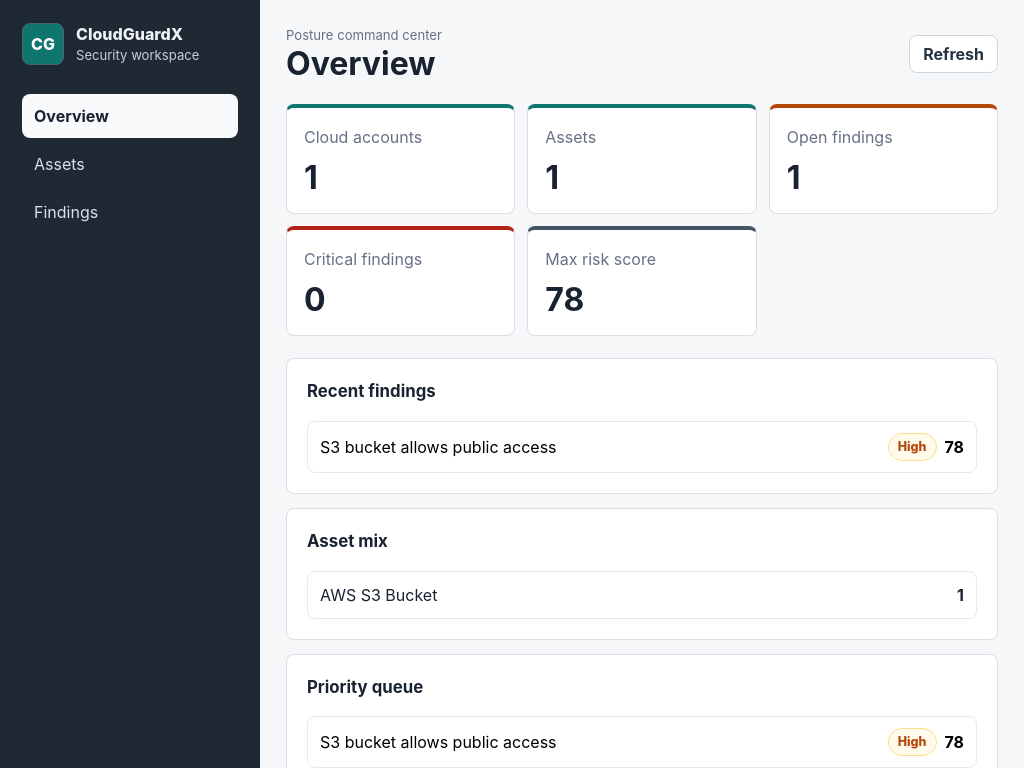
App › surfaces filtered findings API errors without showing stale results
Click the link "Findings" at point(66, 212), box [34,202,98,222]
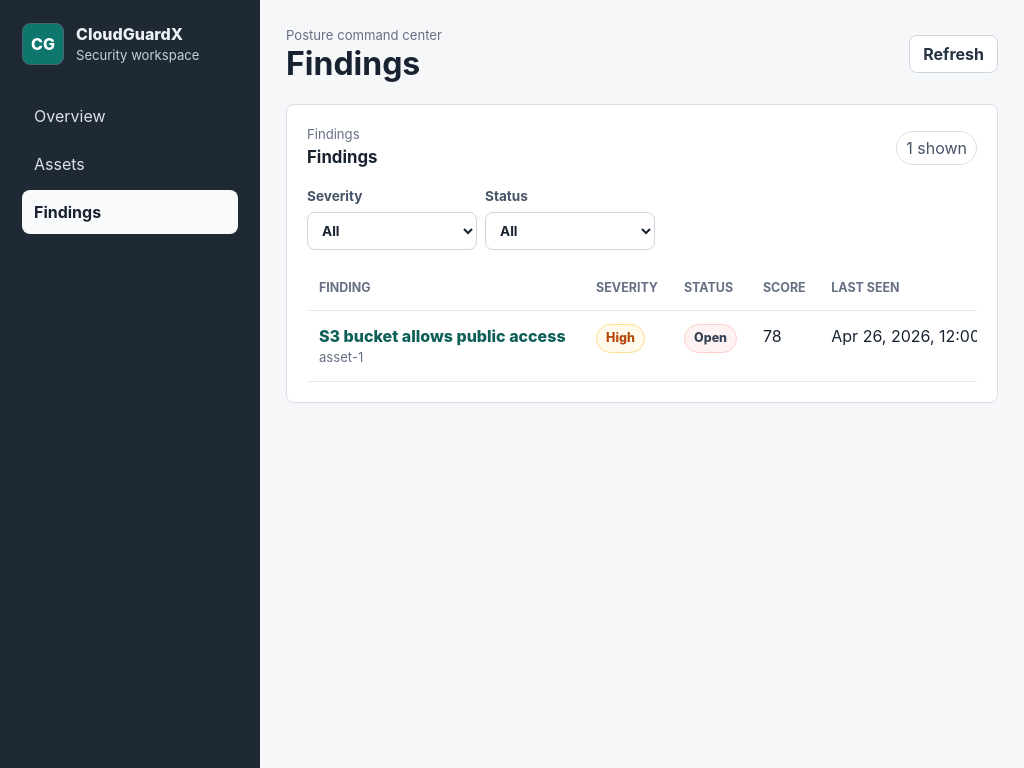
Select "Critical" in the dropdown labelled "Severity" at point(392, 231), box [307,212,477,250]
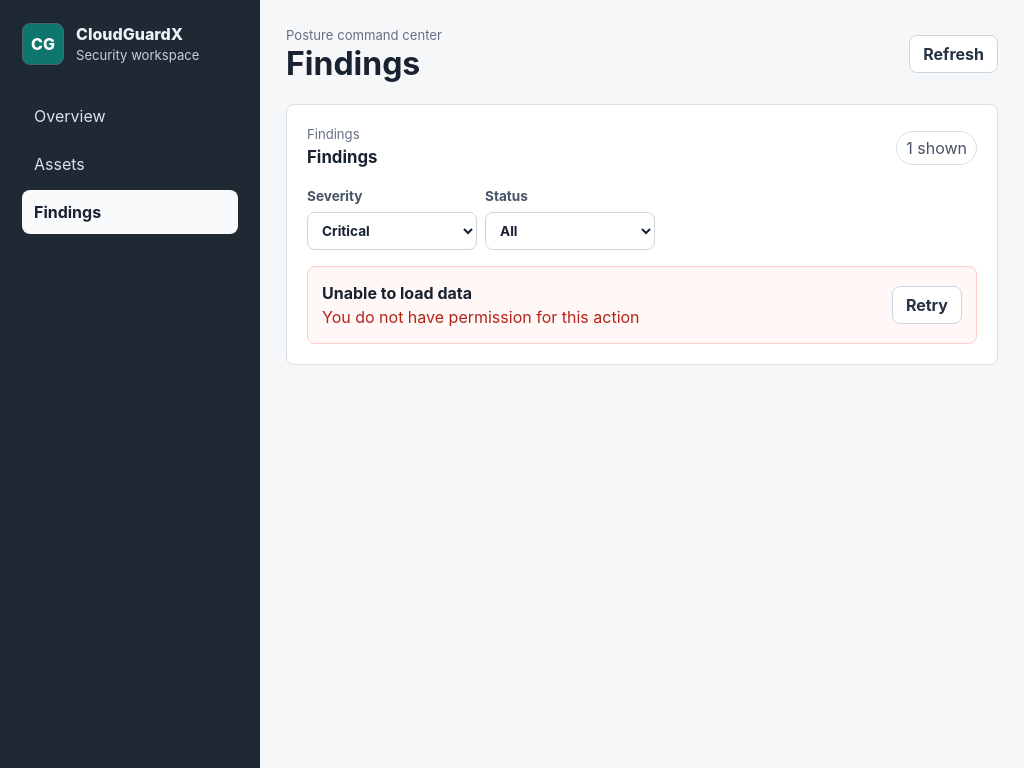
Expected: the message shows "You do not have permission for this action", [322,307,640,327]
Expected: the button "S3 bucket allows public access" is gone
